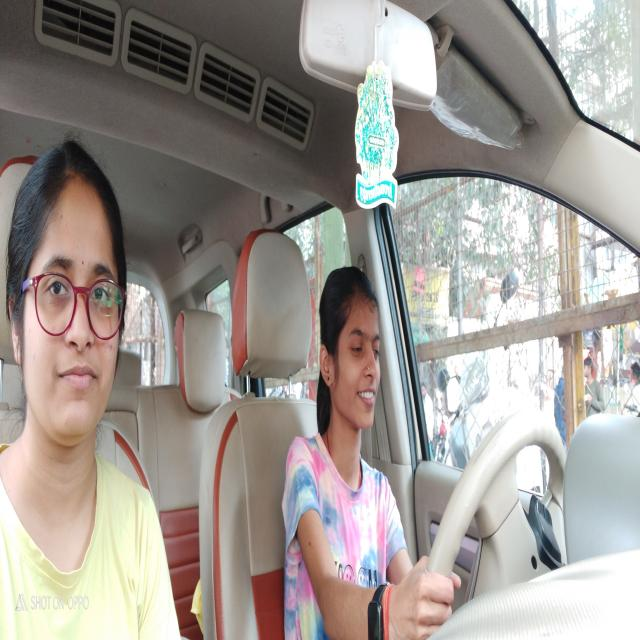drowsy: (316, 278, 385, 437)
person: (7, 147, 128, 446)
